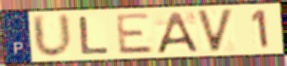1: (249, 8, 270, 50)
A: (154, 10, 200, 55)
E: (114, 12, 157, 56)
L: (78, 15, 111, 56)
U: (30, 12, 75, 60)
V: (194, 7, 236, 54)
